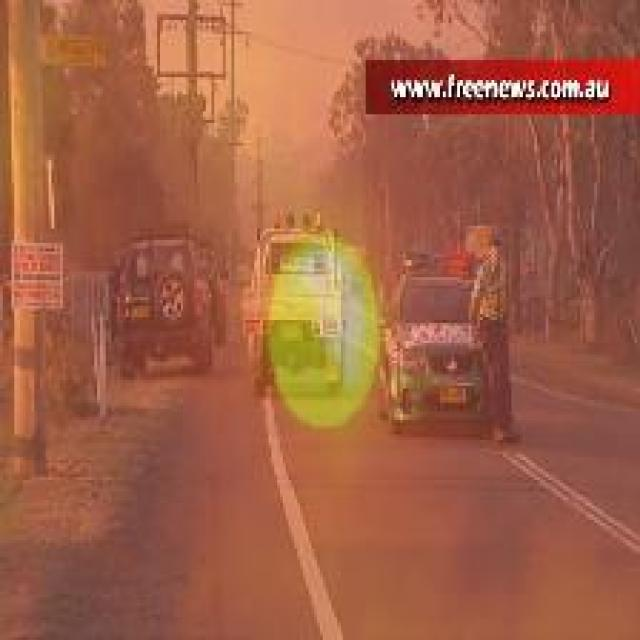other: (255, 220, 384, 418)
